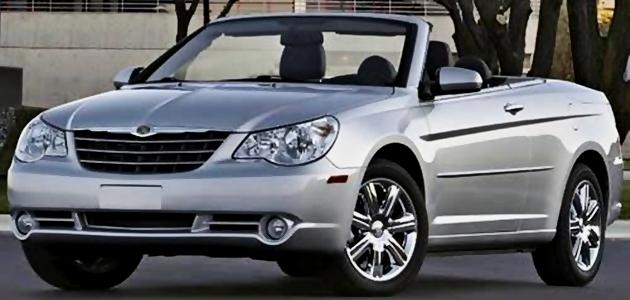Chrysler: (67, 120, 220, 142)
